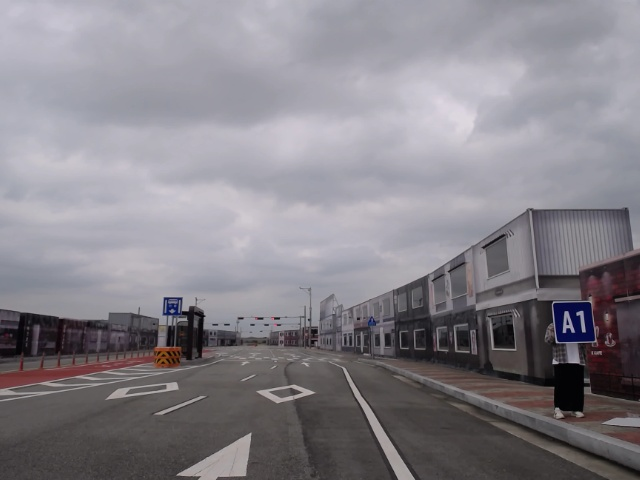delivery_a1: (552, 302, 596, 343)
